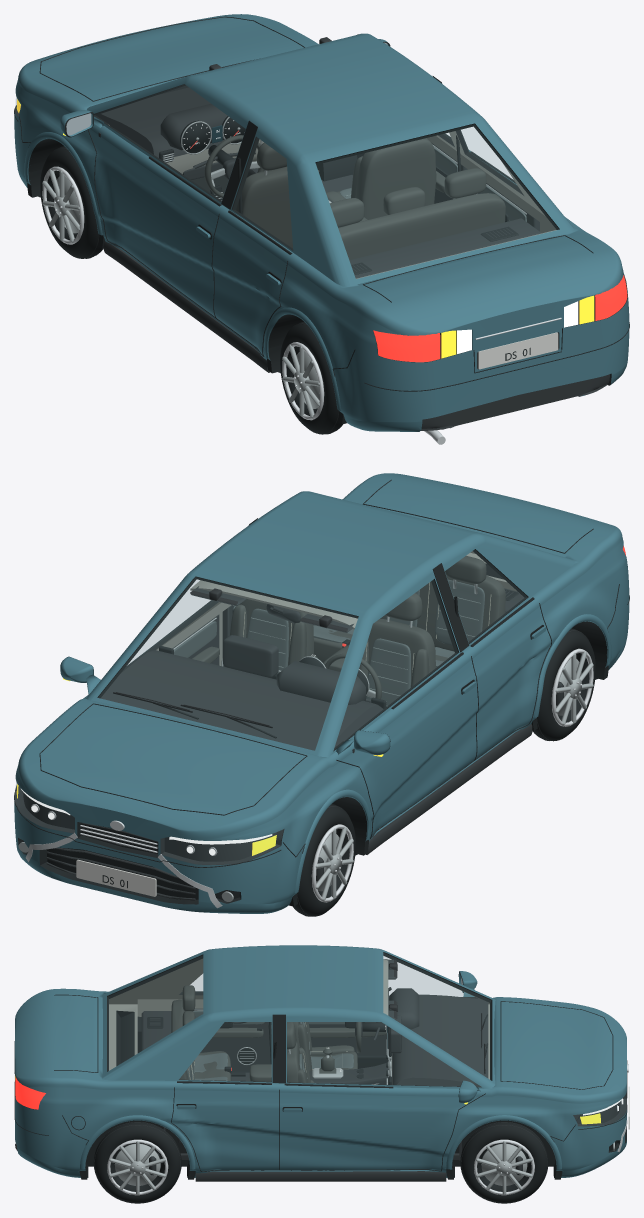
File: DS_Sedan_A.glb
3 renders of one model, top to bottom at view 1: azimuth 30°, elevation 25°; view 2: azimuth 150°, elevation 25°; view 3: azimuth 270°, elevation 25°, orthographic. The views are drawn at different scales.
Visible parts, largest first — view 1: Body_Shell, Glass_Rear, Glass_Front_L, RearBench_Backrest, Backrest.001, Glass_Rear_L, Dashboard, RearParcelShelf, Backrest, RearHeadrest, Tire, Tire.001 (+13 smaller); view 2: Body_Shell, Glass_Windshield, Dashboard, Glass_Front_L, Glass_Rear_L, Tire.001, Tire, PanelGap_Body, FrontLampCover_L, Body_Sills, Instrument_Hood, Backrest_Insert (+24 smaller); view 3: Body_Shell, Glass_Front_R, Glass_Windshield, Dashboard, Glass_Rear, Glass_Rear_R, Tire.002, Tire.003, Body_Sills, Body_ArchLips, PanelGap_Body, Door_Card_Rear_L (+21 smaller).
Boxes of the visible parts, x1=… form: Body_Shell: x1=14, y1=14, x2=629, y2=431; Glass_Rear: x1=316, y1=125, x2=557, y2=278; Glass_Front_L: x1=94, y1=85, x2=244, y2=200; RearBench_Backrest: x1=338, y1=193, x2=505, y2=260; Backrest.001: x1=355, y1=138, x2=436, y2=219; Glass_Rear_L: x1=233, y1=138, x2=292, y2=249; Dashboard: x1=96, y1=87, x2=224, y2=157; RearParcelShelf: x1=349, y1=218, x2=541, y2=278; Backrest: x1=236, y1=166, x2=292, y2=248; RearHeadrest: x1=329, y1=168, x2=486, y2=227; Tire: x1=40, y1=146, x2=102, y2=258; Tire.001: x1=280, y1=322, x2=342, y2=434; Body_Shell: x1=14, y1=473, x2=629, y2=913; Glass_Windshield: x1=99, y1=577, x2=357, y2=749; Dashboard: x1=100, y1=650, x2=383, y2=750; Glass_Front_L: x1=334, y1=580, x2=457, y2=749; Glass_Rear_L: x1=445, y1=550, x2=526, y2=642; Tire.001: x1=533, y1=628, x2=595, y2=740; Tire: x1=293, y1=804, x2=355, y2=916; PanelGap_Body: x1=14, y1=479, x2=629, y2=867; FrontLampCover_L: x1=161, y1=830, x2=282, y2=864; Body_Sills: x1=366, y1=724, x2=532, y2=854; Instrument_Hood: x1=276, y1=661, x2=365, y2=704; Backrest_Insert: x1=366, y1=638, x2=410, y2=706; Body_Shell: x1=15, y1=945, x2=626, y2=1179; Glass_Front_R: x1=287, y1=1022, x2=479, y2=1086; Glass_Windshield: x1=384, y1=953, x2=490, y2=1078; Dashboard: x1=392, y1=994, x2=488, y2=1086; Glass_Rear: x1=108, y1=956, x2=202, y2=1070; Glass_Rear_R: x1=180, y1=1022, x2=270, y2=1081; Tire.002: x1=460, y1=1122, x2=548, y2=1203; Tire.003: x1=93, y1=1122, x2=181, y2=1203; Body_Sills: x1=195, y1=1171, x2=446, y2=1181; Body_ArchLips: x1=80, y1=1115, x2=561, y2=1169; PanelGap_Body: x1=14, y1=994, x2=627, y2=1171; Door_Card_Rear_L: x1=194, y1=1008, x2=271, y2=1070.
Size of the model in its own units: 2.13 by 1.48 by 4.57.
